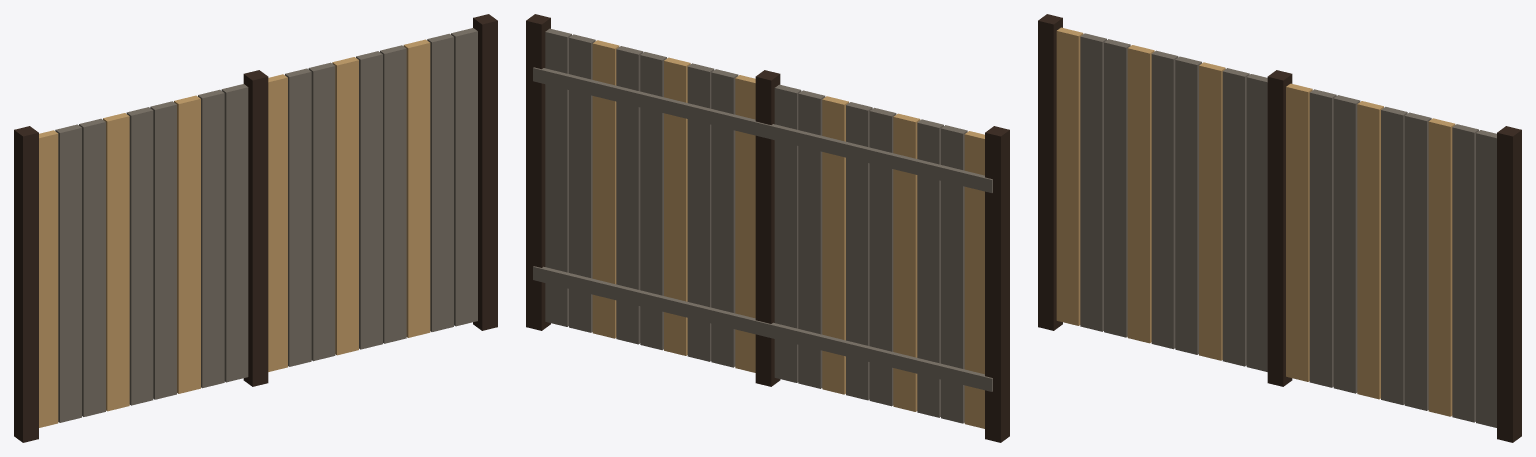
Rendered from privacy_fence.glb.
3 views of the same model, side by side, from view 1: azimuth 30°, elevation 25°; view 2: azimuth 150°, elevation 25°; view 3: azimuth 330°, elevation 25° (orthographic).
Parts seen in each view (by area): view 1: privacy_fence; view 2: privacy_fence; view 3: privacy_fence.
Boxes of the visible parts, x1=… form: privacy_fence: x1=14, y1=14, x2=497, y2=442; privacy_fence: x1=526, y1=14, x2=1009, y2=442; privacy_fence: x1=1038, y1=14, x2=1521, y2=442.
Bounding box in the file's own units: 3 × 1.85 × 0.11.
Materials: 1 (1 with a texture image).
